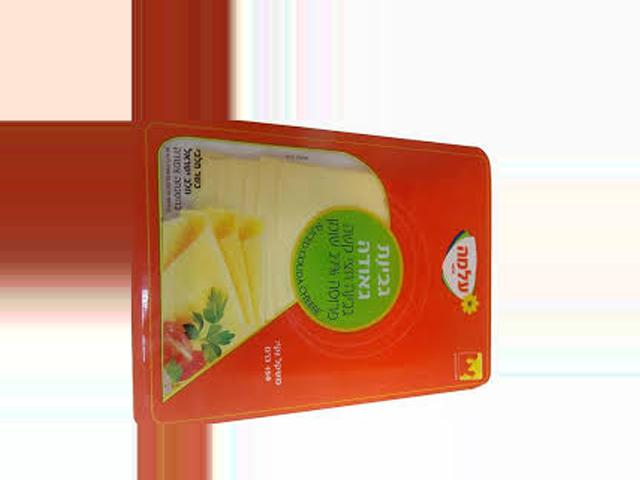cheese: (129, 125, 488, 425)
